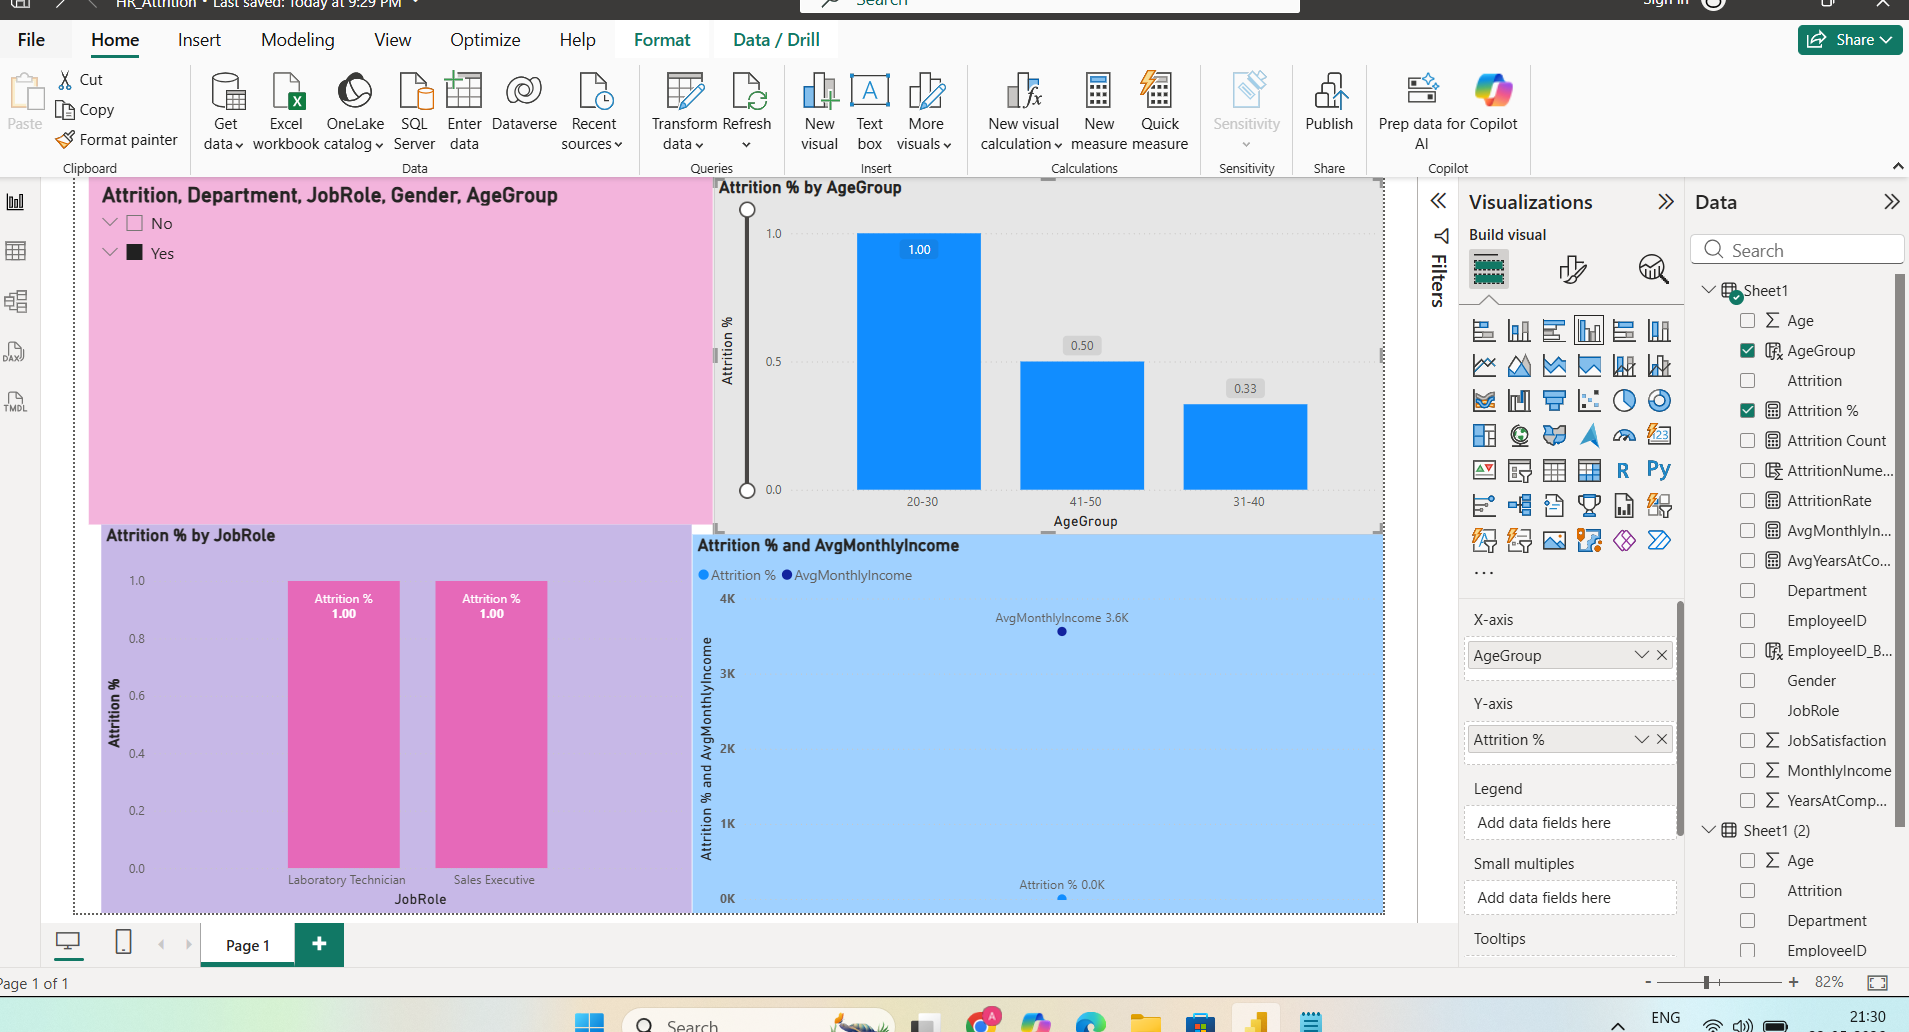

What the dashboard file says about the page in this screenshot:
{"tool":"powerbi","page":{"name":"Page 1","canvas":[1280,720],"ordinal":0},"visuals":[{"type":"slicer","fields":{"Values":["Sheet1.Attrition","Sheet1.Department","Sheet1.JobRole","Sheet1.Gender","Sheet1.AgeGroup"]},"box":[13.7,0,610.6,340.3],"z":0},{"type":"clusteredColumnChart","fields":{"Y":["Sheet1.Attrition %"],"Category":["Sheet1.AgeGroup"]},"box":[624.4,0,655.9,349.9],"z":1},{"type":"clusteredColumnChart","fields":{"Category":["Sheet1.JobRole"],"Y":["Sheet1.Attrition %"]},"box":[26.1,340.3,577.7,380.1],"z":2},{"type":"lineChart","fields":{"Y":["Sheet1.Attrition %","Sheet1.AvgMonthlyIncome"]},"box":[603.8,349.9,676.5,370.5],"z":3}]}

Visuals, with their boxes on the page's 1280x720 design canvas (x1, y1, x2, y2). These are canvas units, not pixel positions in the 1909x1032 screenshot, which may show the page scaled, cropped or inside an application window:
slicer - Sheet1.Attrition x Sheet1.Department: 14,0,624,340
clusteredColumnChart - Sheet1.Attrition % x Sheet1.AgeGroup: 624,0,1280,350
clusteredColumnChart - Sheet1.JobRole x Sheet1.Attrition %: 26,340,604,720
lineChart - Sheet1.Attrition % x Sheet1.AvgMonthlyIncome: 604,350,1280,720
